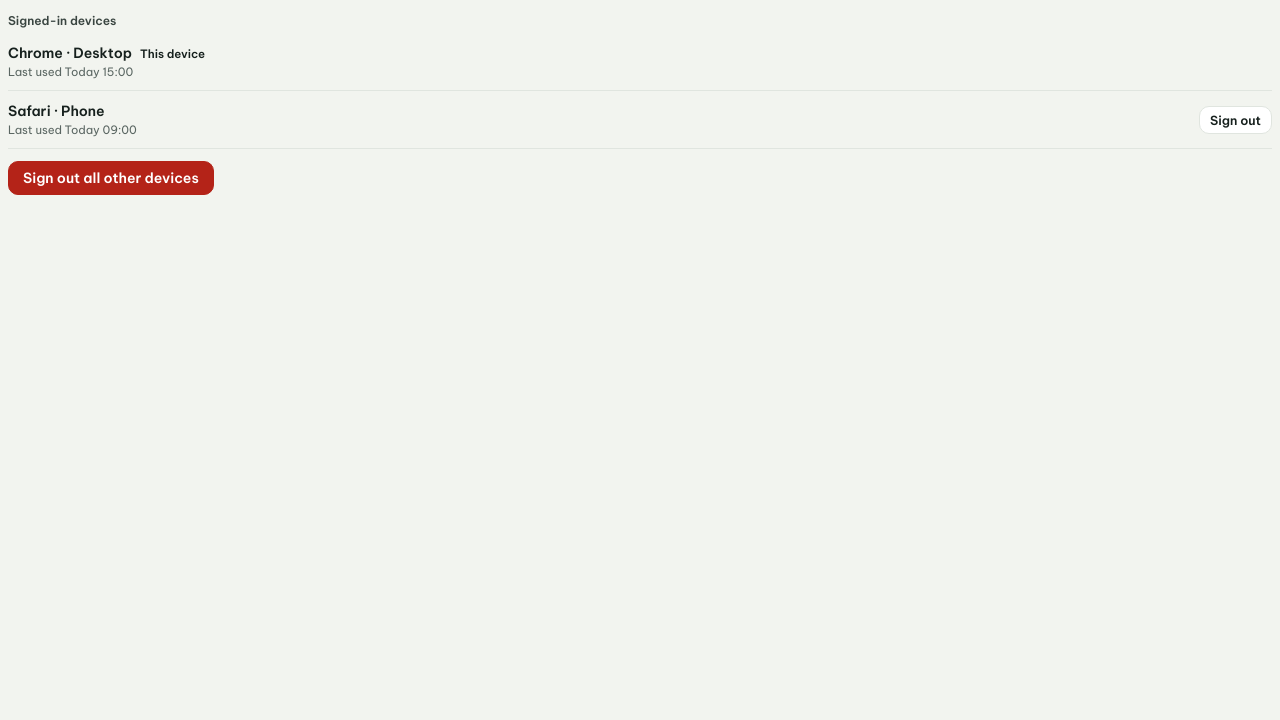
Test: focus after a row has gone (R19) › after the confirmed row leaves, focus is on the h2; the opener was in the document while the list reloaded
This screenshot has width=1280, height=720.
Click the button with aria-label "Sign out Safari".
click(1236, 120)  # box [1199, 106, 1272, 134]
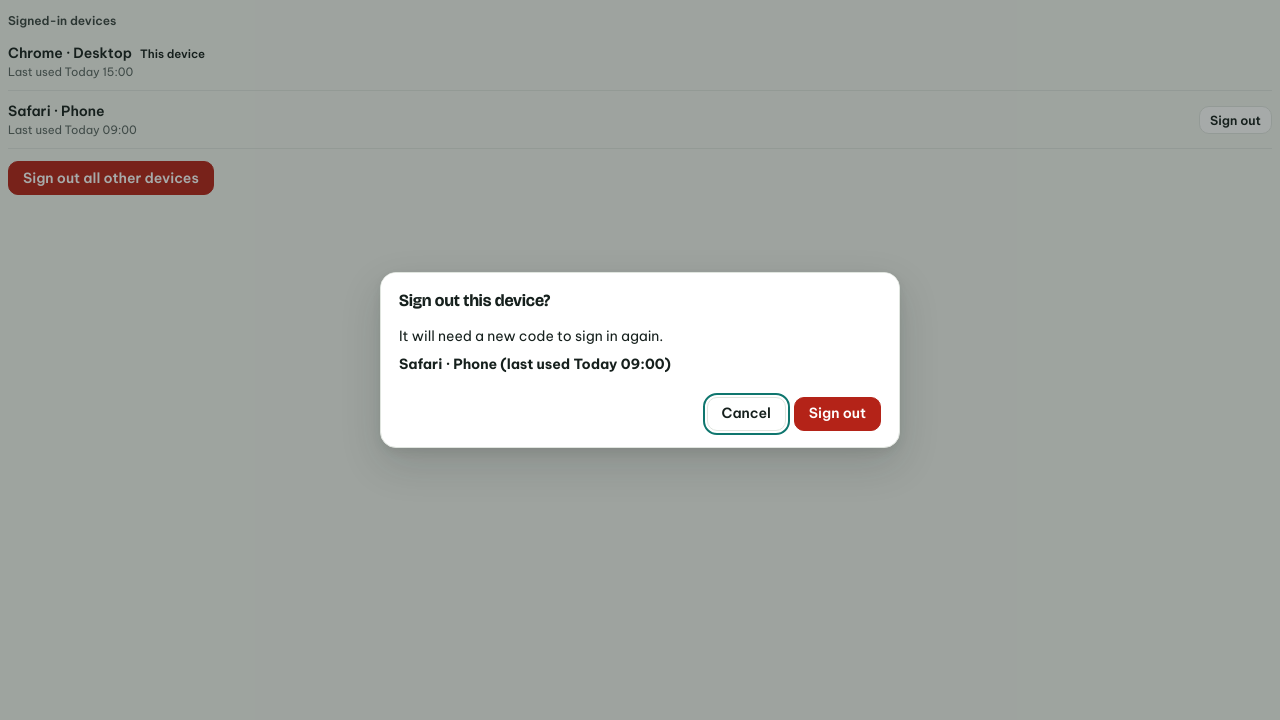
Click the button "Sign out".
click(837, 414)  # box [794, 397, 881, 431]
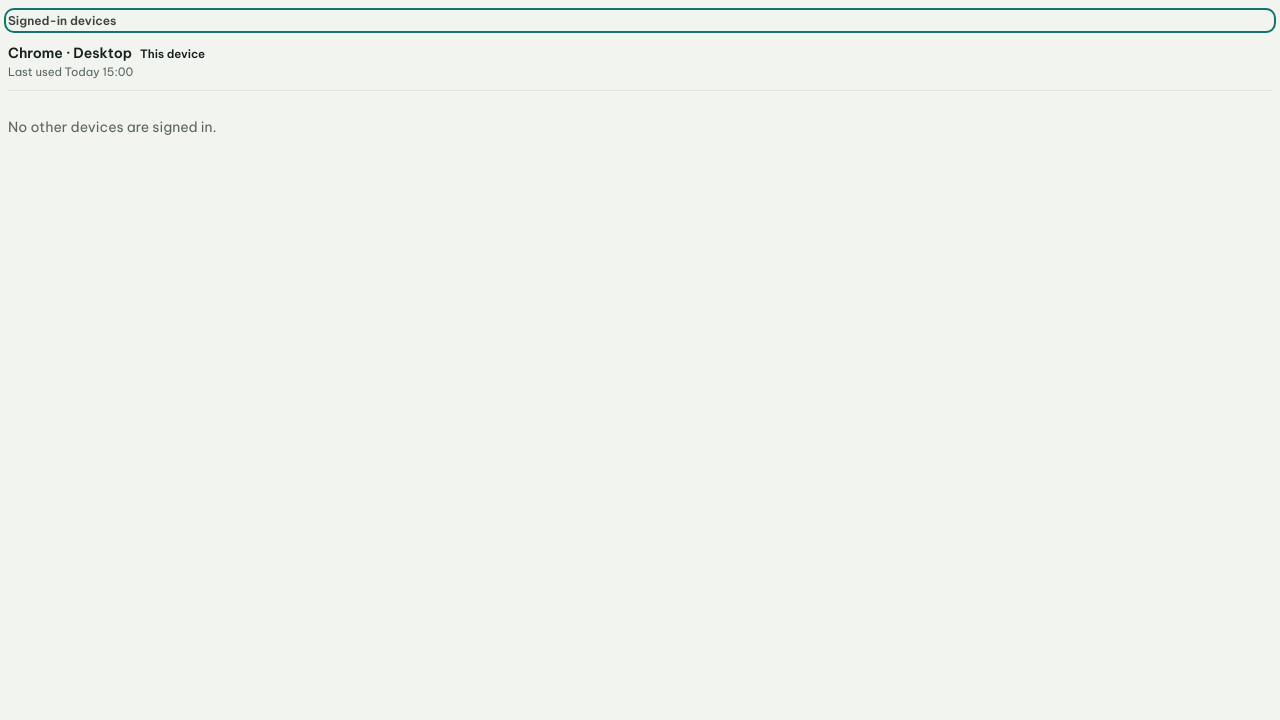
Now the dialog is gone
